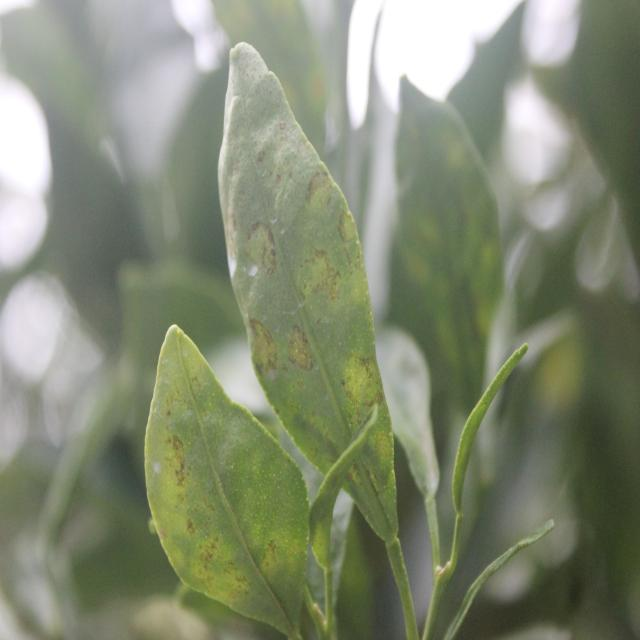canker: (230, 89, 389, 475), (152, 399, 290, 608)
